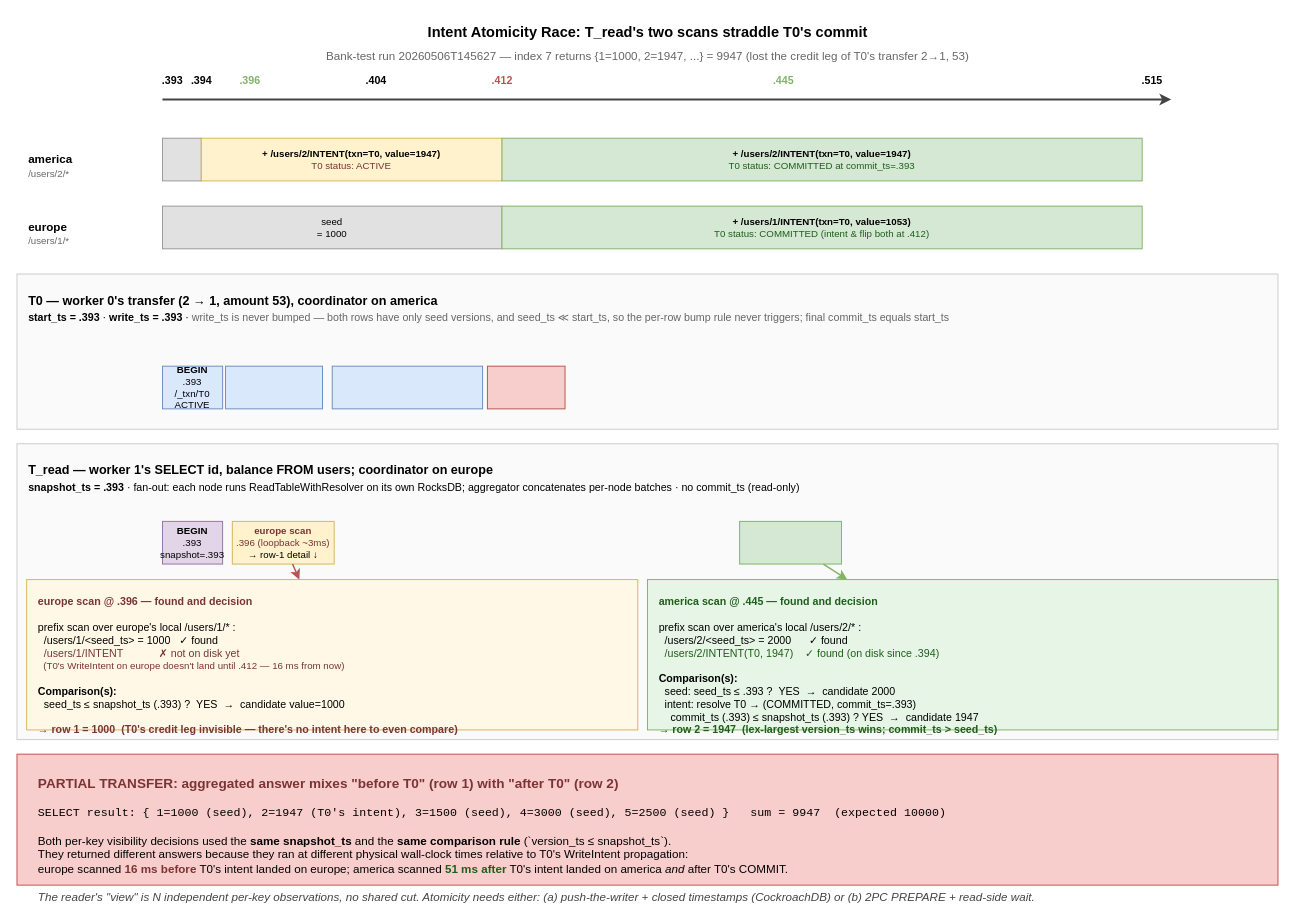
Image size: 1295x921. Some labels were removed from this diagram. The box of each missing label's shape, as (x1, y1, x2, y2) in pixels:
america scan .445 (cross-region ~52ms) → row-2 detail ↓: (739, 520, 841, 564)
COMMIT .412 → COMMITTED, .393: (486, 365, 565, 409)
seed = 2000: (162, 137, 201, 181)
UPDATE row 1 (dispatch) .404 → europe at .412 + INTENT on europe: (331, 365, 483, 409)
UPDATE row 2 .394 + INTENT on america: (225, 365, 323, 409)
